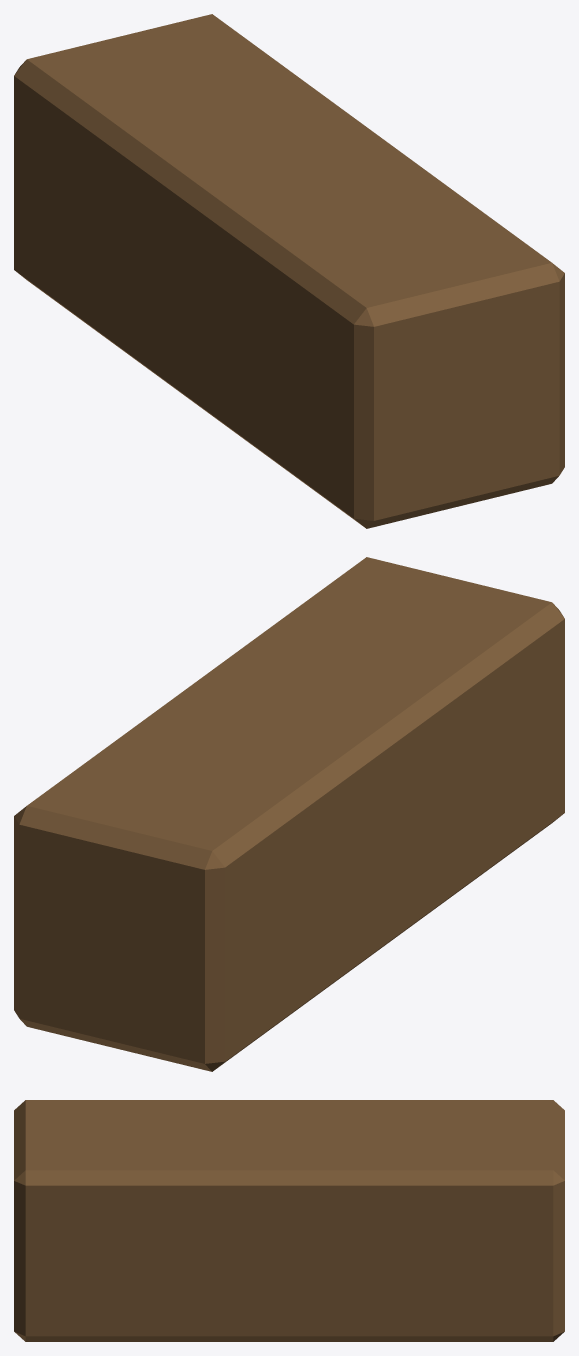
The model's file is Lantern_04.fbx.
3 views of the same model, one above another, from view 1: azimuth 30°, elevation 25°; view 2: azimuth 150°, elevation 25°; view 3: azimuth 270°, elevation 25° (orthographic). The views are drawn at different scales.
Visible parts, largest first — view 1: Lantern_04; view 2: Lantern_04; view 3: Lantern_04.
Boxes of the visible parts, x1,y1,x2,y2 form: Lantern_04: (14, 14, 564, 528); Lantern_04: (14, 557, 564, 1071); Lantern_04: (14, 1100, 564, 1341).
Size of the model in its own units: 0.3285 by 0.3285 by 0.956.
